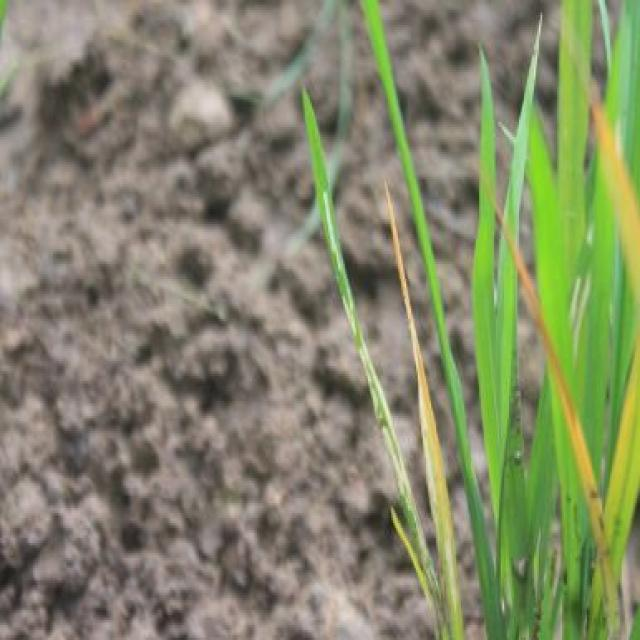Tungro: (374, 168, 467, 640), (506, 204, 608, 522), (577, 87, 640, 309)
